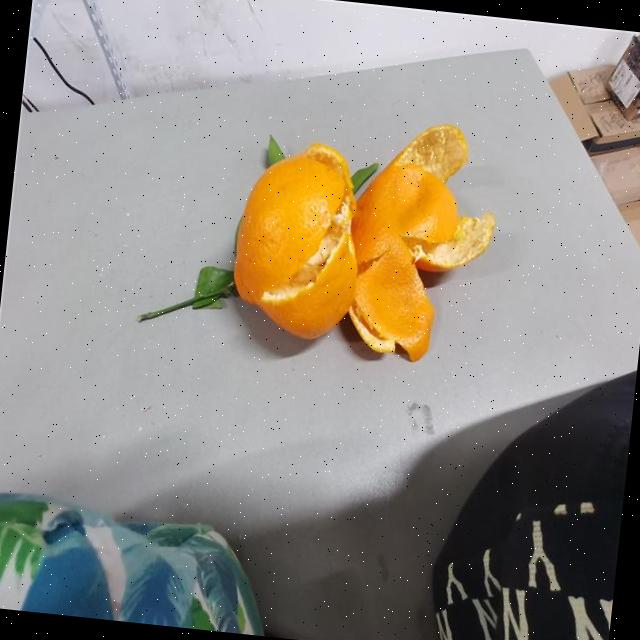orange-peel: (224, 134, 370, 343)
